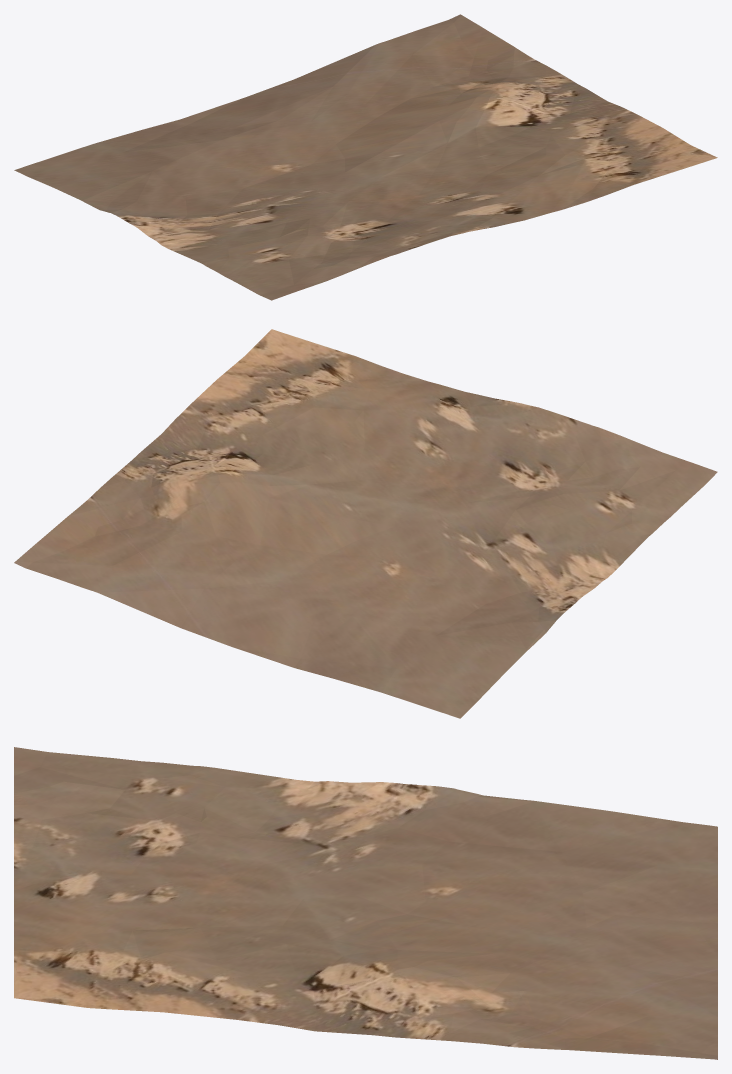
3 renders of one model, top to bottom at view 1: azimuth 30°, elevation 25°; view 2: azimuth 150°, elevation 25°; view 3: azimuth 270°, elevation 25°, orthographic. The views are drawn at different scales.
Bounding box in the file's own units: 1.04 × 0.2061 × 1.04.
2 materials, 2 textured.
